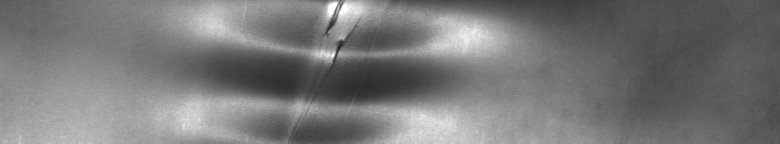ke: (256, 4, 416, 113)
